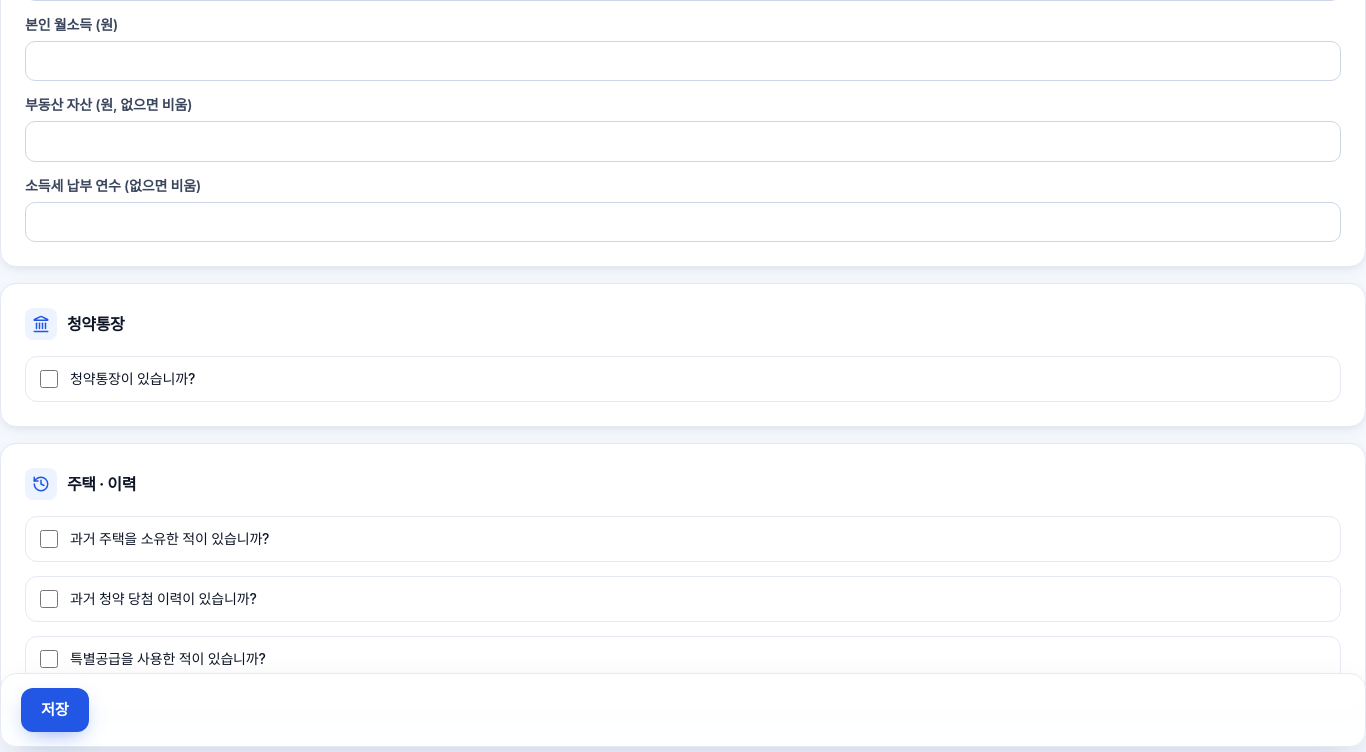
Scenario: ProfileForm › 청약통장 체크 시 가입일·예치금액 칸이 나타난다
(page scrolled)
What coordinates should you click on to do the following:
click the checkbox labelled "청약통장이 있습니까?"
I would click on:
 (49, 379)
Its box is [40,370,58,388].
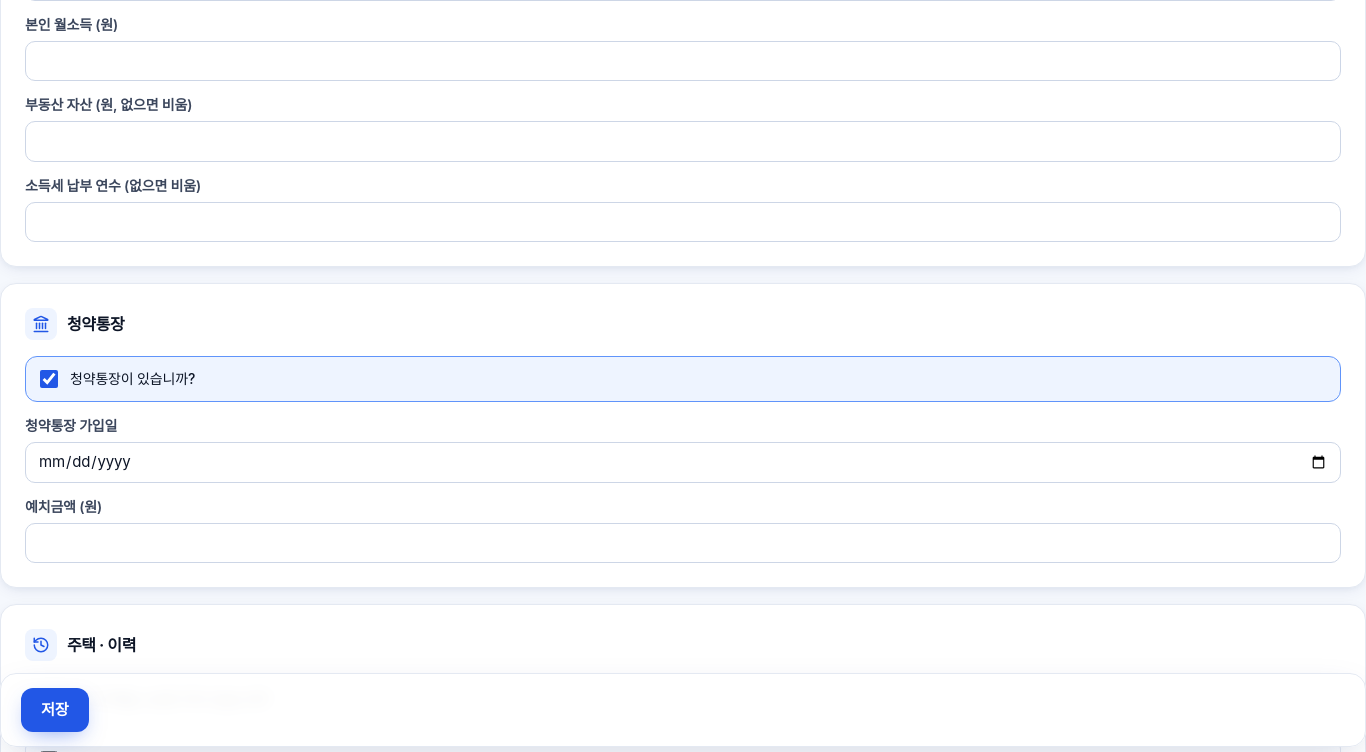
Expected: the date field labelled "청약통장 가입일" is shown, [25,442,1341,482]
Expected: the number field labelled "예치금액 (원)" is shown, [25,522,1341,563]
